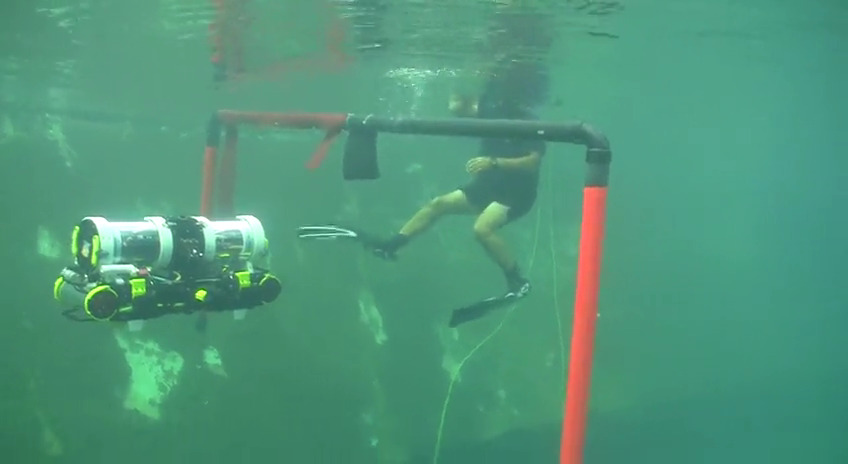gate: (201, 104, 622, 464)
